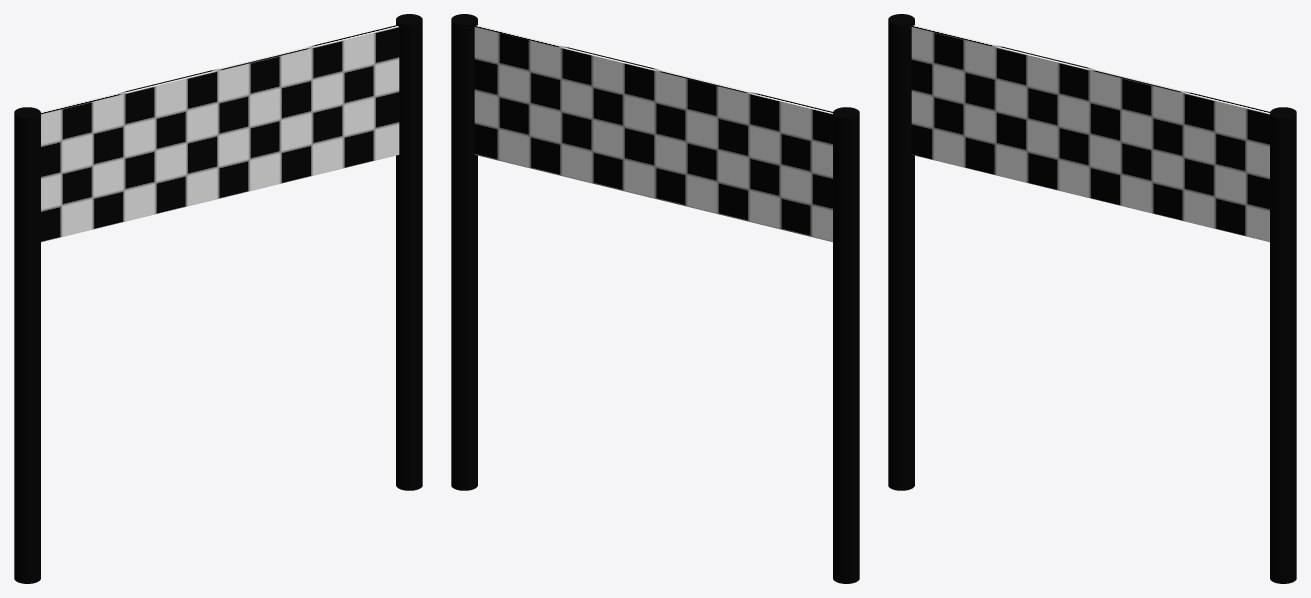
Rendered from endLevel.glb.
3 views of the same model, side by side, from view 1: azimuth 30°, elevation 25°; view 2: azimuth 150°, elevation 25°; view 3: azimuth 330°, elevation 25° (orthographic).
Parts seen in each view (by area): view 1: Cylinder; view 2: Cylinder; view 3: Cylinder.
Boxes of the visible parts, x1,y1,x2,y2 form: Cylinder: (14, 14, 422, 583); Cylinder: (451, 14, 859, 583); Cylinder: (888, 14, 1296, 583).
Bounding box in the file's own units: 2.15 × 2.36 × 0.1236.
2 materials, 1 textured.
